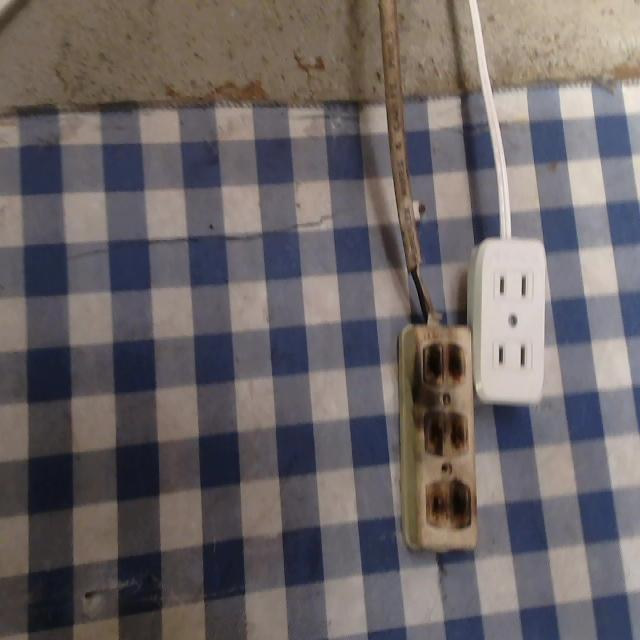-: (415, 404, 471, 460), (423, 474, 472, 530), (419, 335, 470, 388)
